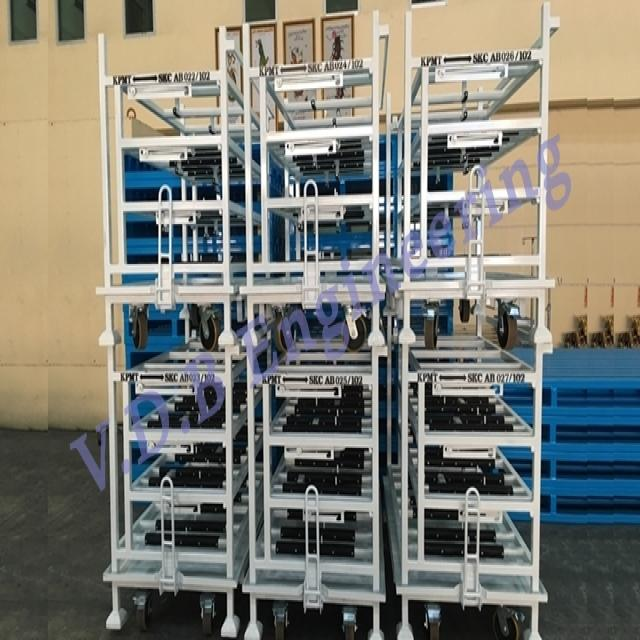broyeur: (396, 272, 562, 363), (394, 565, 556, 640), (239, 276, 393, 354), (99, 277, 240, 361), (241, 574, 389, 640), (103, 572, 240, 640)
